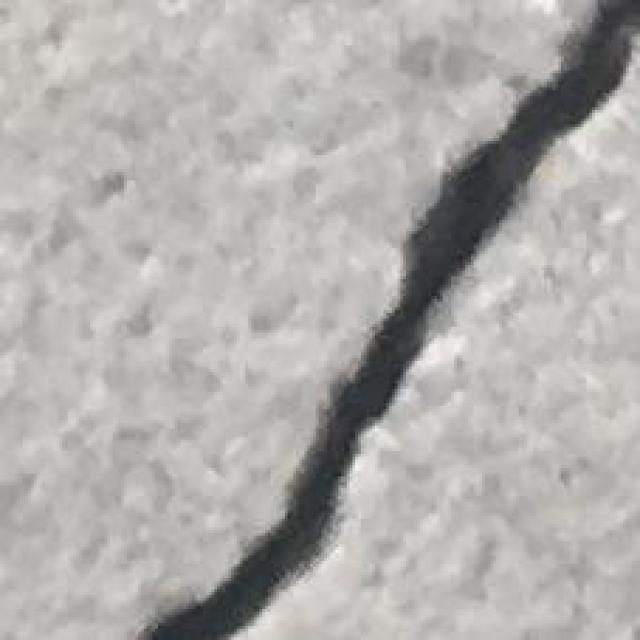Crack: (135, 3, 640, 640)
